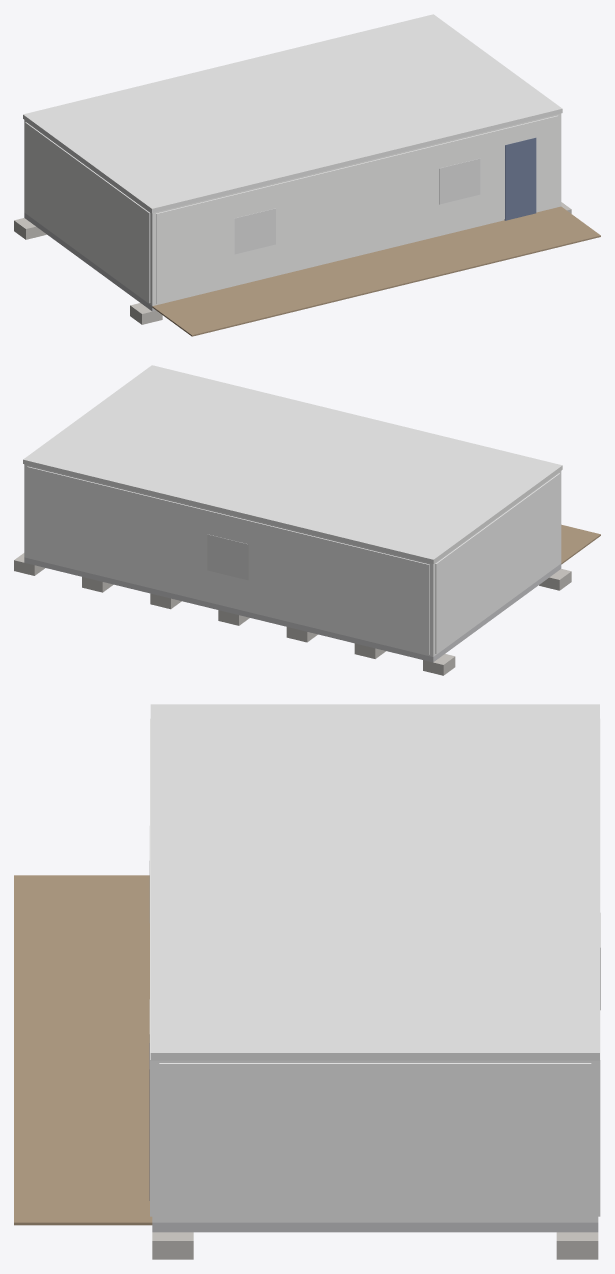
The model's file is Studio-40-TerraceDeck-LOD0.glb.
3 renders of one model, top to bottom at view 1: azimuth 30°, elevation 25°; view 2: azimuth 150°, elevation 25°; view 3: azimuth 270°, elevation 25°, orthographic. The views are drawn at different scales.
Parts seen in each view (by area): view 1: RoofMain, ExteriorPanelsStandard, TerraceDeck, WindowsStandard, ExteriorShell, EntryDoor, FoundationBlocks, BaseFrame; view 2: RoofMain, ExteriorPanelsStandard, BaseFrame, ExteriorShell, FoundationBlocks, WindowsStandard, TerraceDeck; view 3: RoofMain, ExteriorPanelsStandard, TerraceDeck, ExteriorShell, BaseFrame, FoundationBlocks.
Boxes of the visible parts, <box> form: RoofMain: <box>23,14,562,212</box>; ExteriorPanelsStandard: <box>25,115,558,303</box>; TerraceDeck: <box>152,206,600,336</box>; WindowsStandard: <box>234,158,480,254</box>; ExteriorShell: <box>24,113,561,305</box>; EntryDoor: <box>504,137,536,220</box>; FoundationBlocks: <box>14,202,571,324</box>; BaseFrame: <box>24,213,155,311</box>; RoofMain: <box>23,365,562,563</box>; ExteriorPanelsStandard: <box>27,466,560,654</box>; BaseFrame: <box>24,557,561,662</box>; ExteriorShell: <box>24,464,561,656</box>; FoundationBlocks: <box>14,553,571,675</box>; WindowsStandard: <box>207,534,248,580</box>; TerraceDeck: <box>561,524,600,564</box>; RoofMain: <box>150,704,599,1060</box>; ExteriorPanelsStandard: <box>150,718,600,1220</box>; TerraceDeck: <box>14,875,152,1225</box>; ExteriorShell: <box>152,1060,598,1222</box>; BaseFrame: <box>152,1222,598,1232</box>; FoundationBlocks: <box>152,1232,598,1259</box>.
Bounding box in the file's own units: 12.49 × 3.17 × 8.49.
